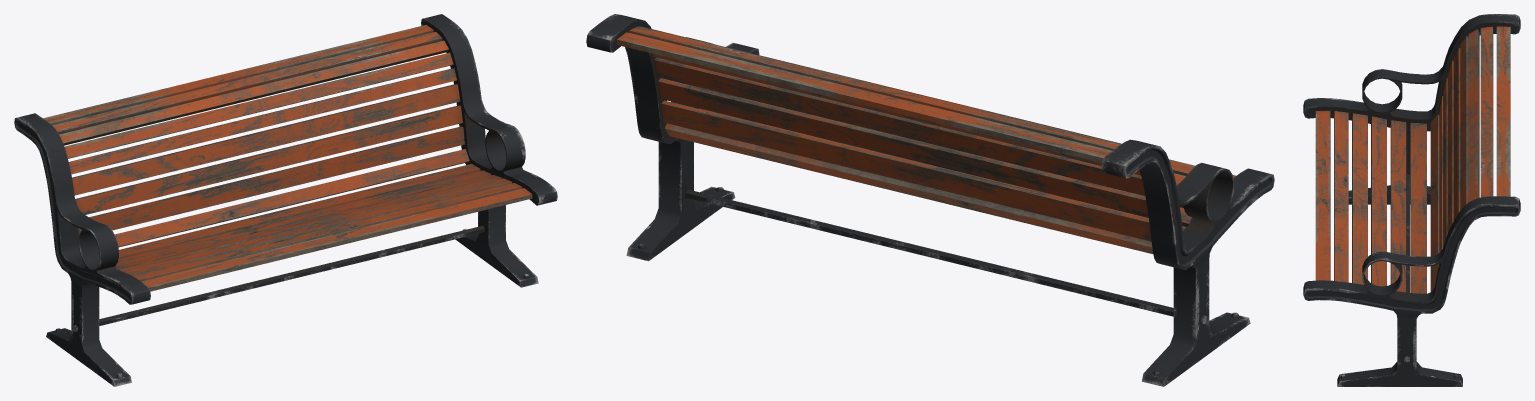
File: park_bech_low-poly.glb
The picture shows the model from 3 angles, left to right: view 1: azimuth 30°, elevation 25°; view 2: azimuth 150°, elevation 25°; view 3: azimuth 270°, elevation 25°; orthographic projection. The views are drawn at different scales.
Parts seen in each view (by area): view 1: Bench; view 2: Bench; view 3: Bench.
Part boxes in pixels (left/top/right/bottom): Bench: left=14, top=14, right=557, bottom=386; Bench: left=586, top=14, right=1274, bottom=386; Bench: left=1303, top=14, right=1520, bottom=386.
Size of the model in its own units: 0.7784 by 0.345 by 0.3719.
1 material, 1 textured.
